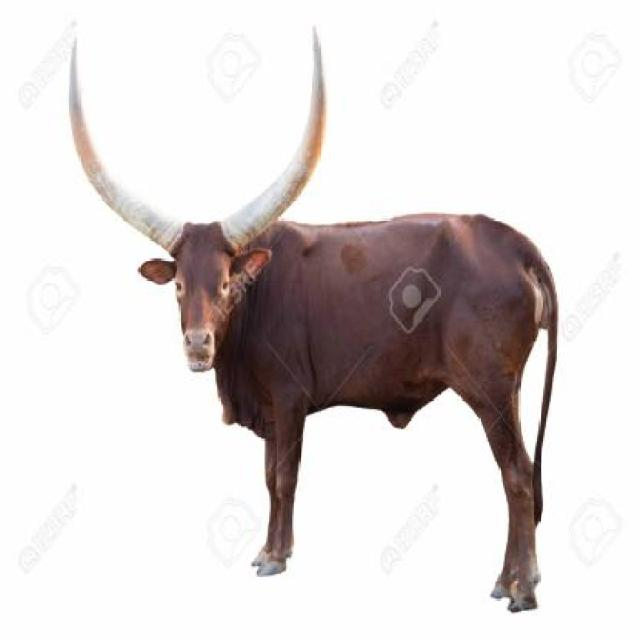Cow: (66, 29, 563, 614)
